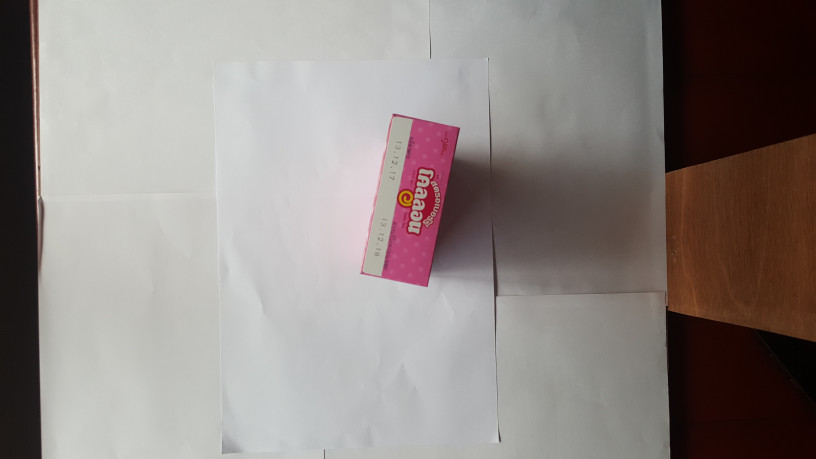collon-strawberry: (358, 112, 461, 290)
